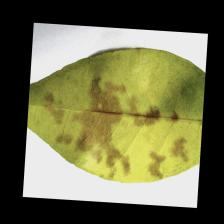canker: (38, 70, 189, 174)
